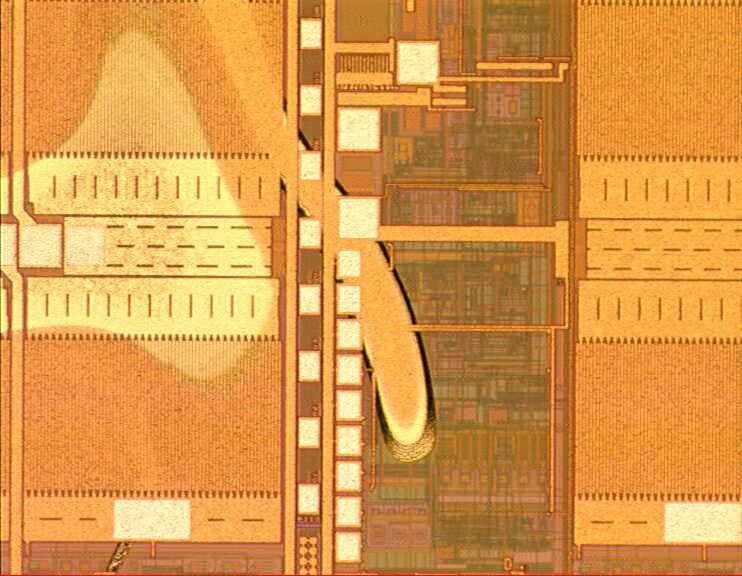COATING BAD: (1, 1, 446, 468)
